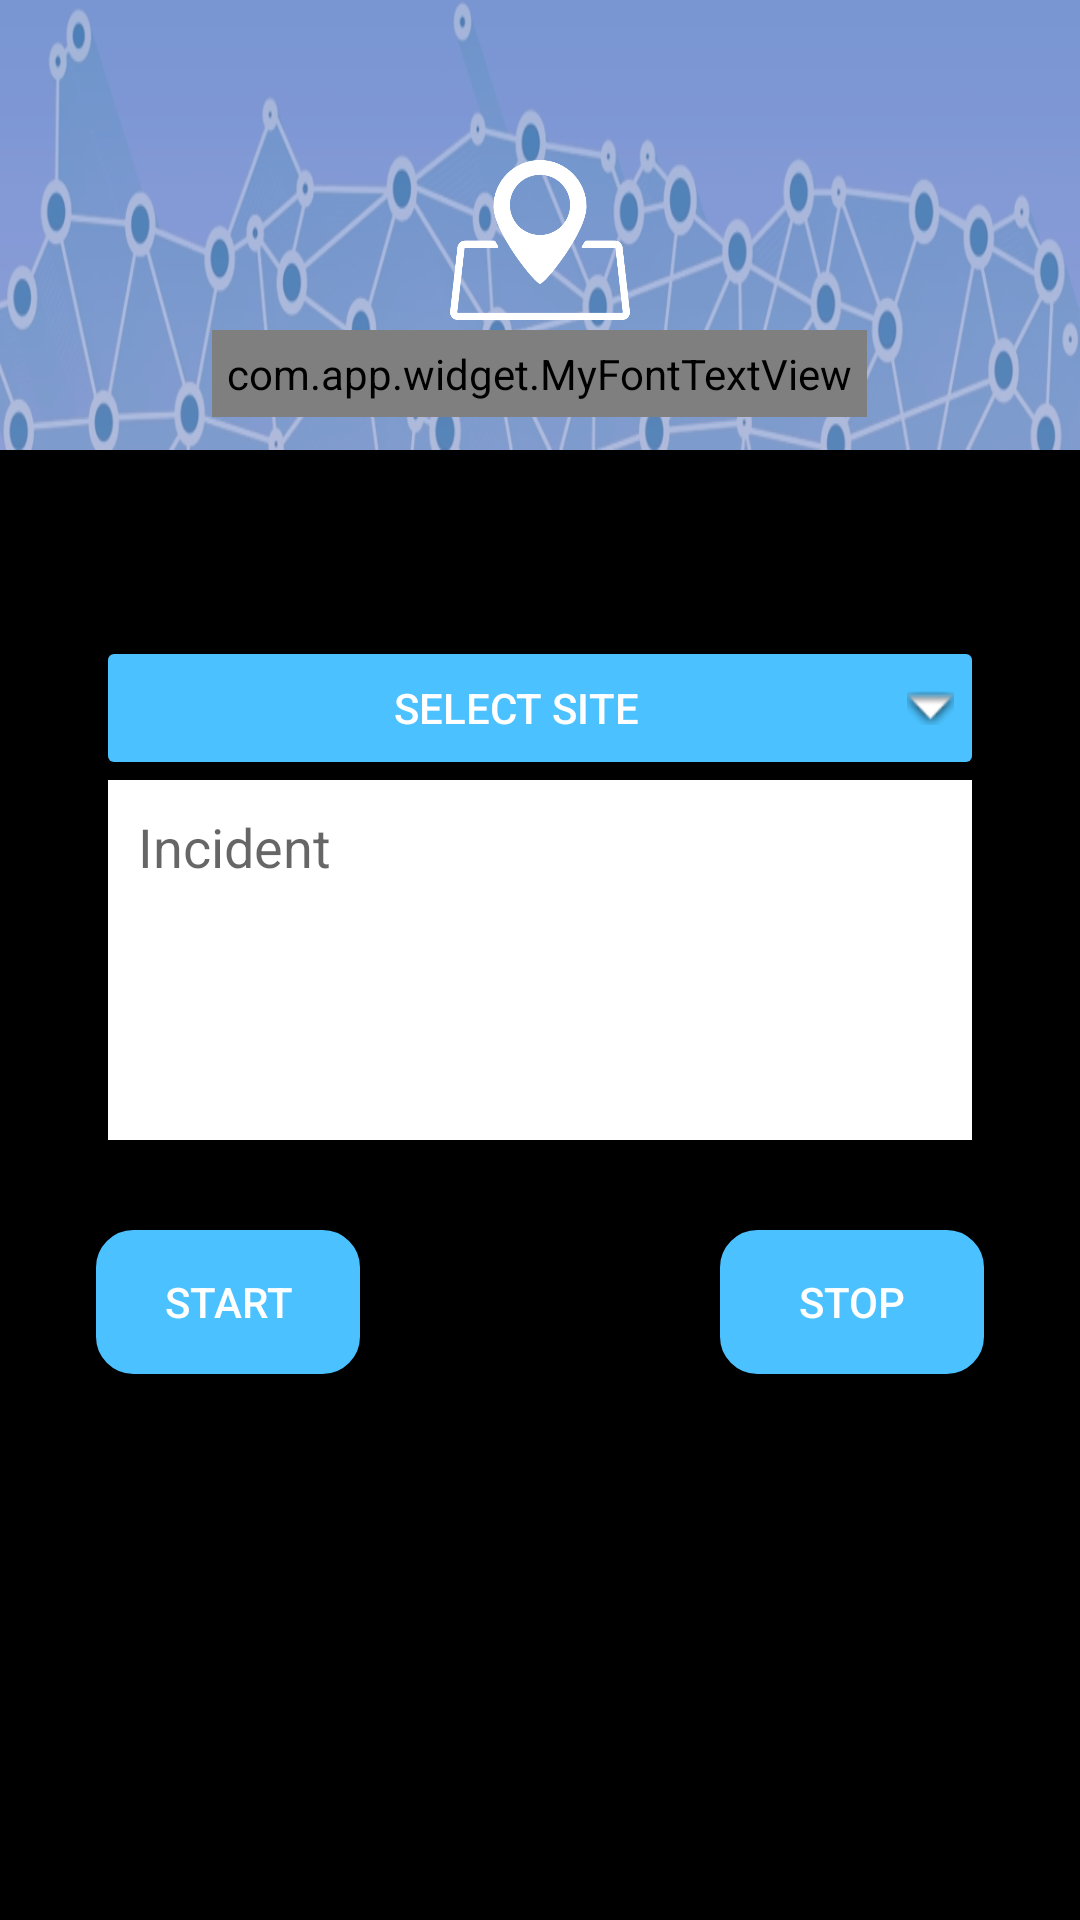

Named icons in this screenshot (1080 x 1920) and their centers, [x,y]:
location: [540,240]
